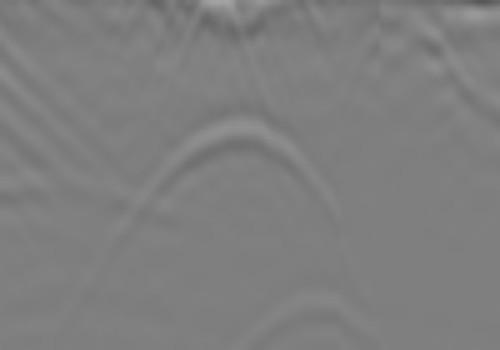Hyperbola: (75, 88, 416, 291), (211, 241, 406, 347)
